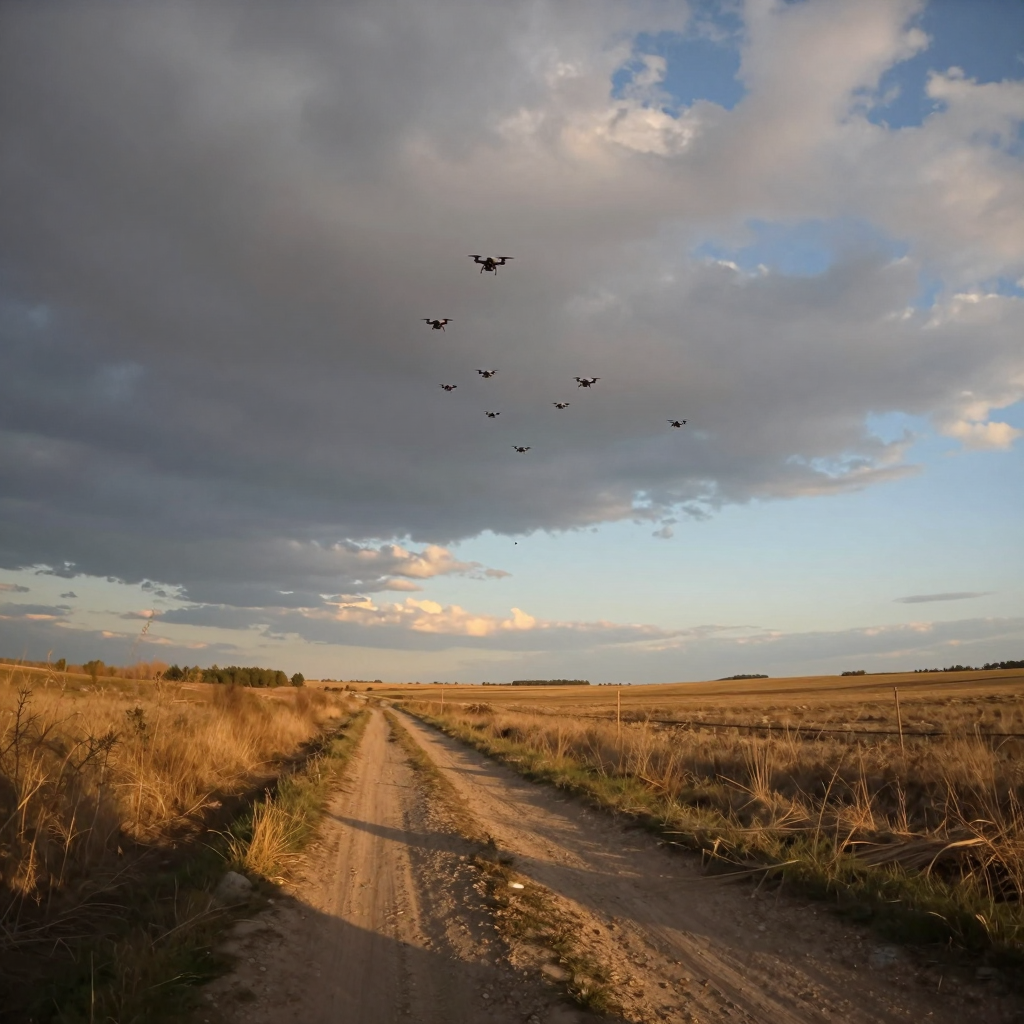drone: (468, 255, 514, 275), (420, 318, 453, 332), (572, 377, 601, 388), (474, 369, 499, 379), (667, 419, 691, 428), (512, 446, 531, 454), (438, 384, 457, 392), (552, 402, 570, 409), (484, 411, 501, 418)
